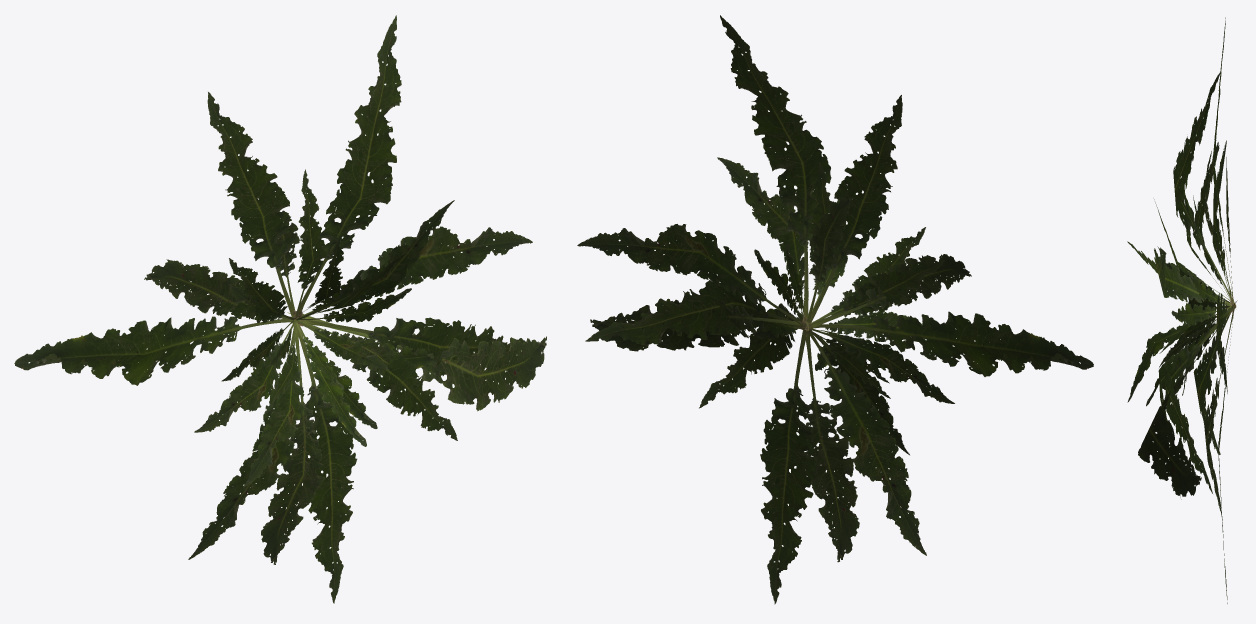
The model's file is Weed_03_Var1_LOD2.fbx.
The picture shows the model from 3 angles, left to right: view 1: azimuth 30°, elevation 25°; view 2: azimuth 150°, elevation 25°; view 3: azimuth 270°, elevation 25°; orthographic projection. The views are drawn at different scales.
Parts seen in each view (by area): view 1: Var1_LOD2; view 2: Var1_LOD2; view 3: Var1_LOD2.
Part boxes in pixels (left/top/right/bottom): Var1_LOD2: left=14, top=15, right=546, bottom=603; Var1_LOD2: left=577, top=15, right=1093, bottom=604; Var1_LOD2: left=1127, top=17, right=1237, bottom=603.
Bounding box in the file's own units: 78.83 × 83.87 × 15.72.
